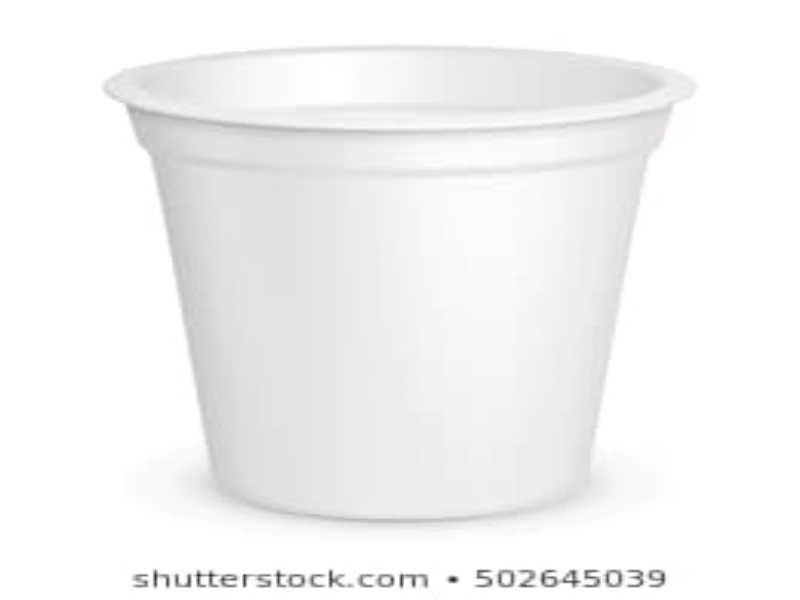plastic-cup: (92, 29, 708, 519)
